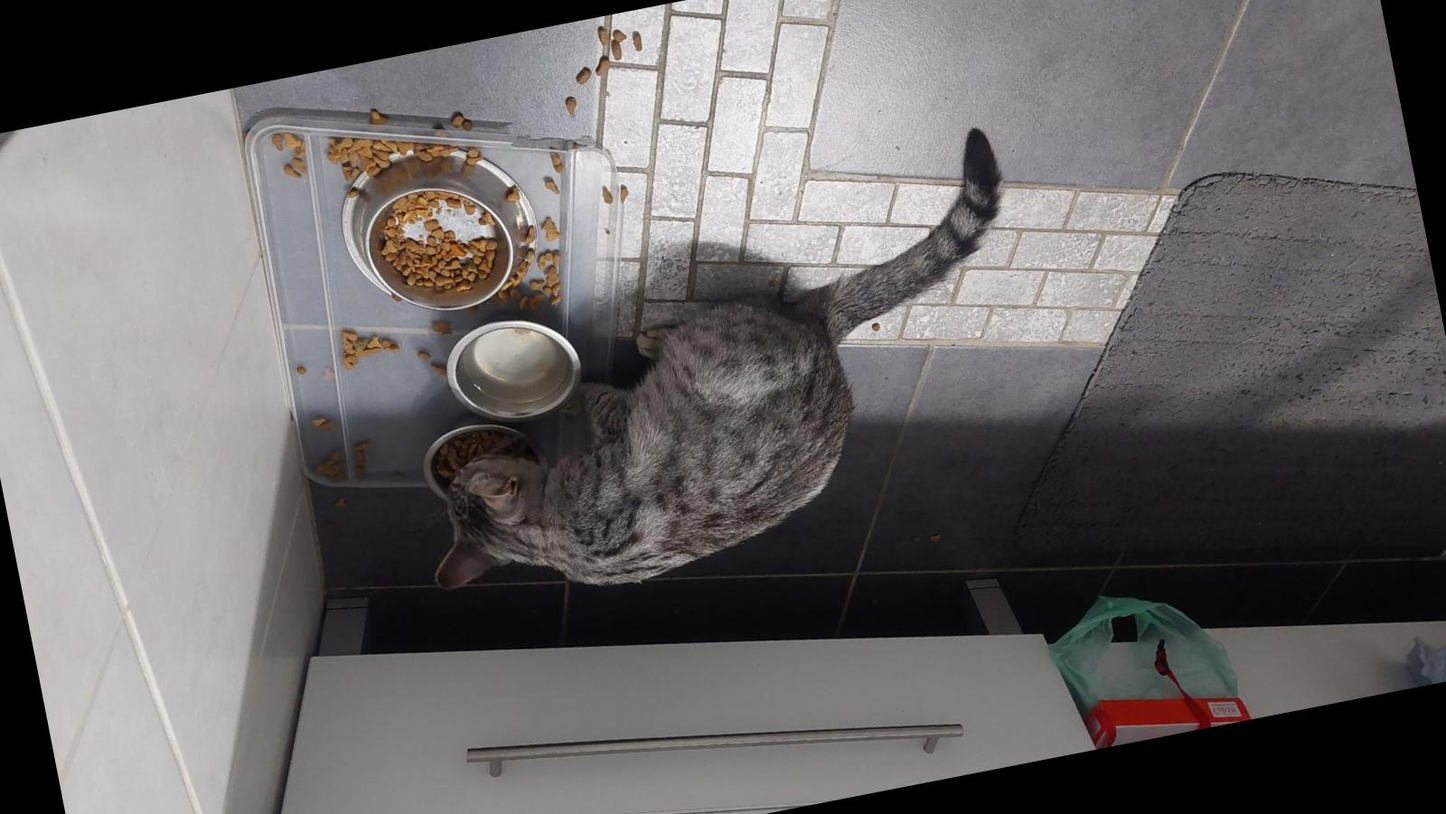macka: (370, 126, 1068, 623)
